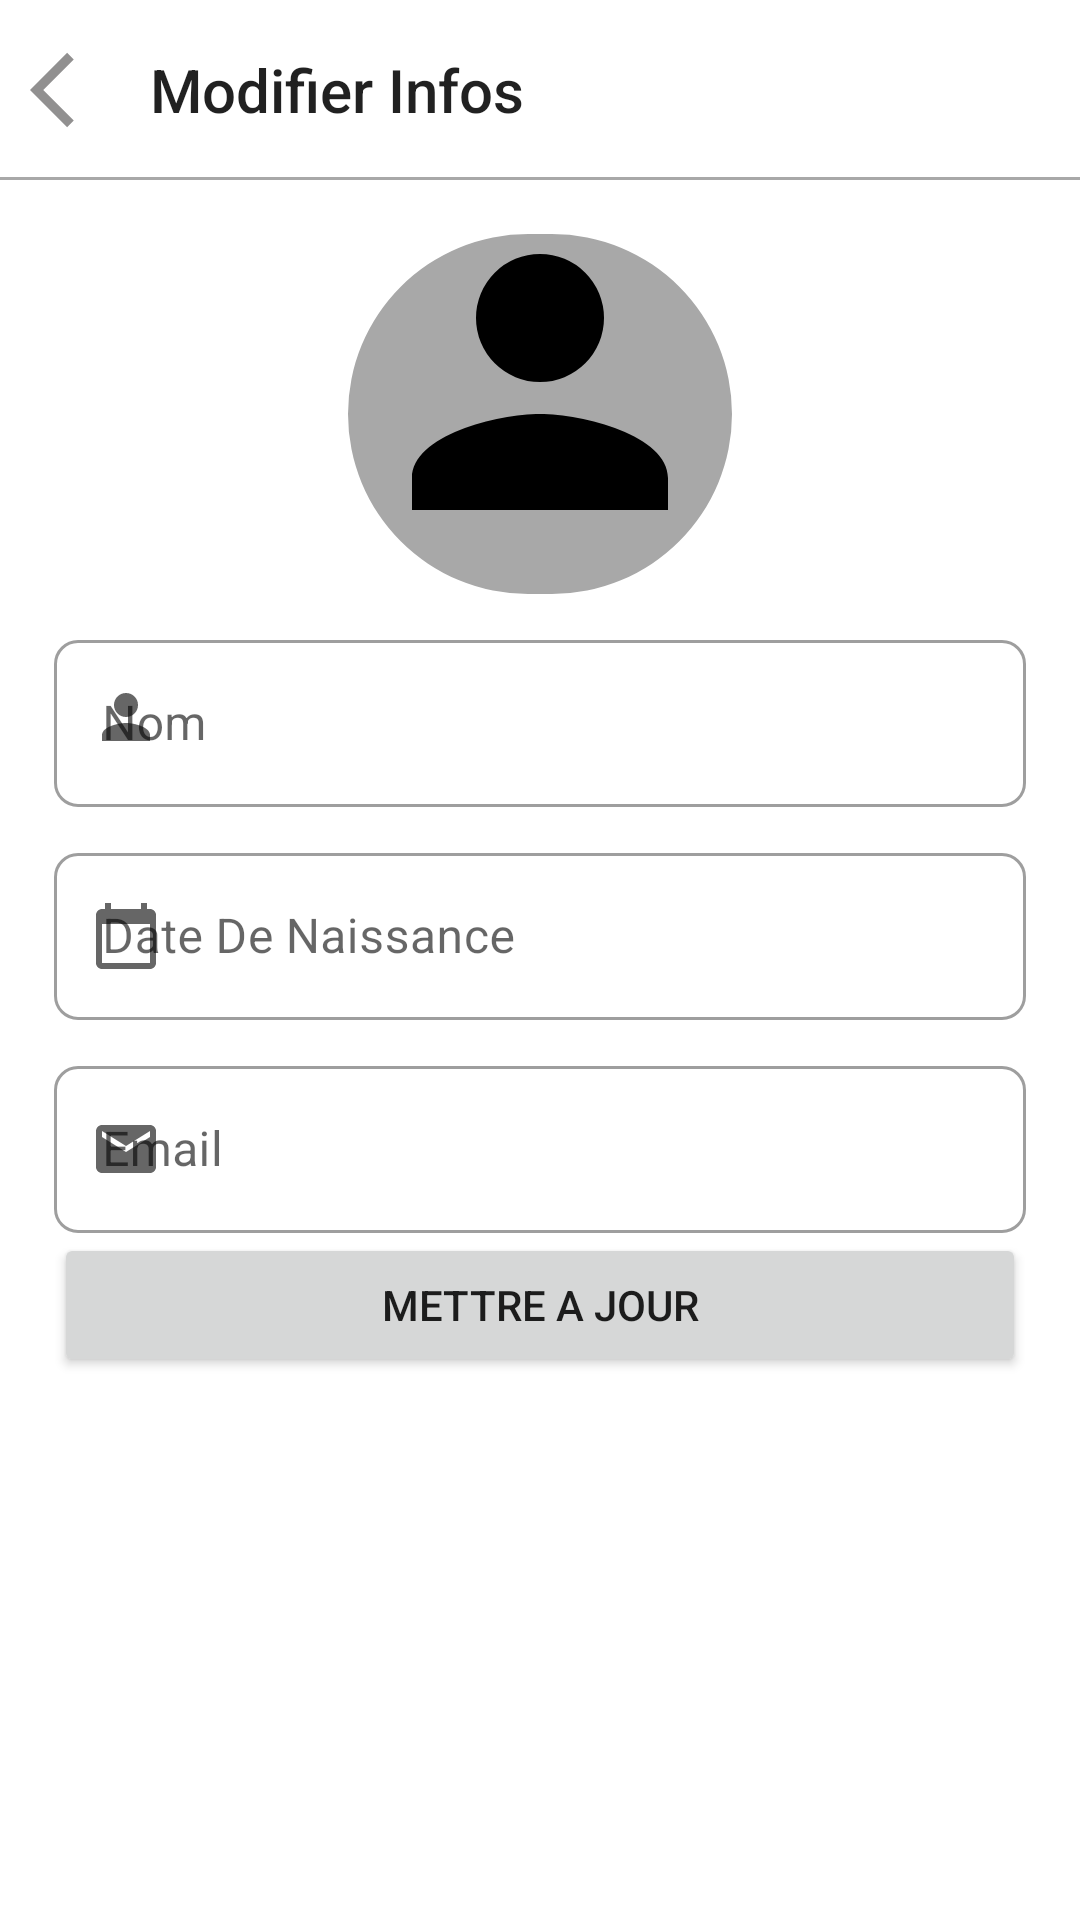

Named icons in this screenshot (1080x1920) and their centers, (x=x, y=y):
back arrow: (x=52, y=90)
